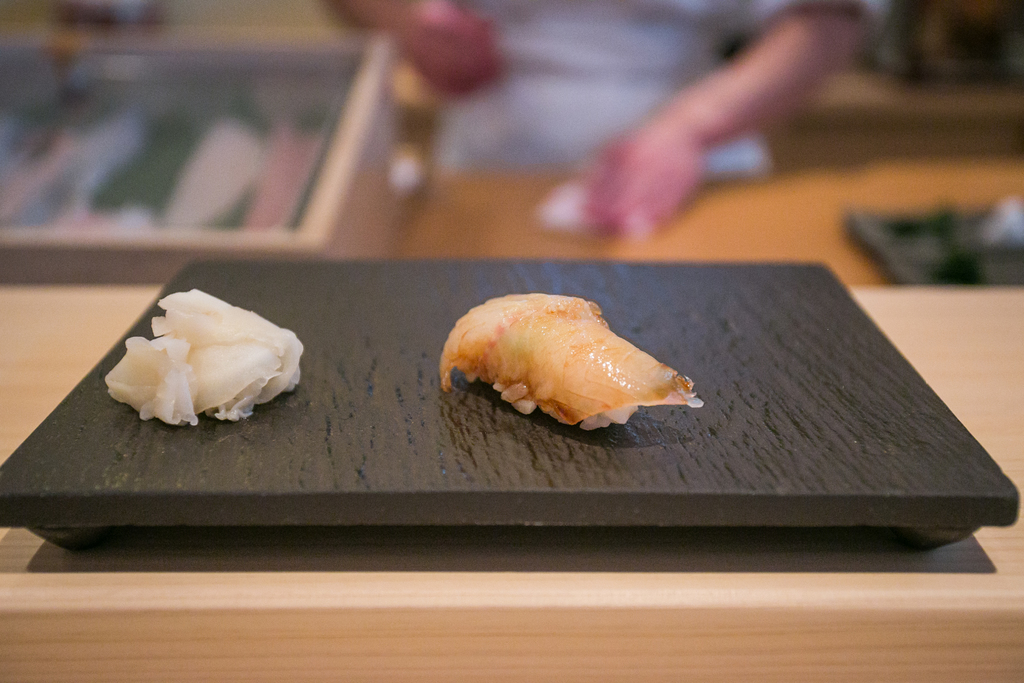sushi: (438, 281, 711, 437)
